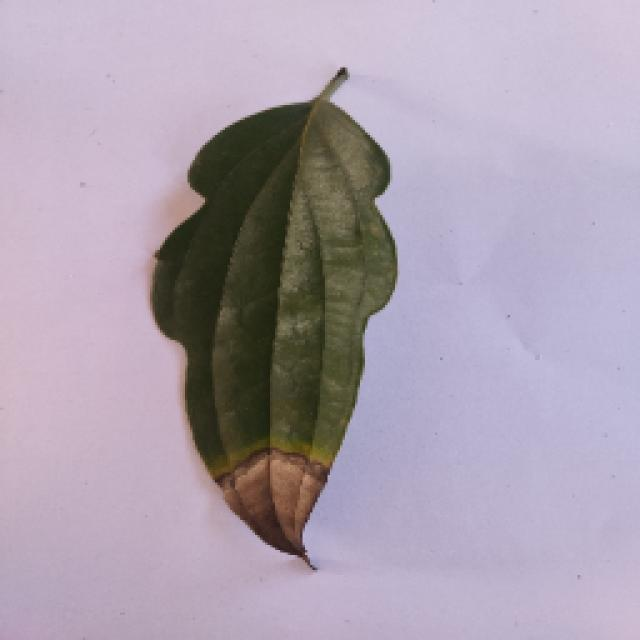footrot: (133, 70, 415, 565)
